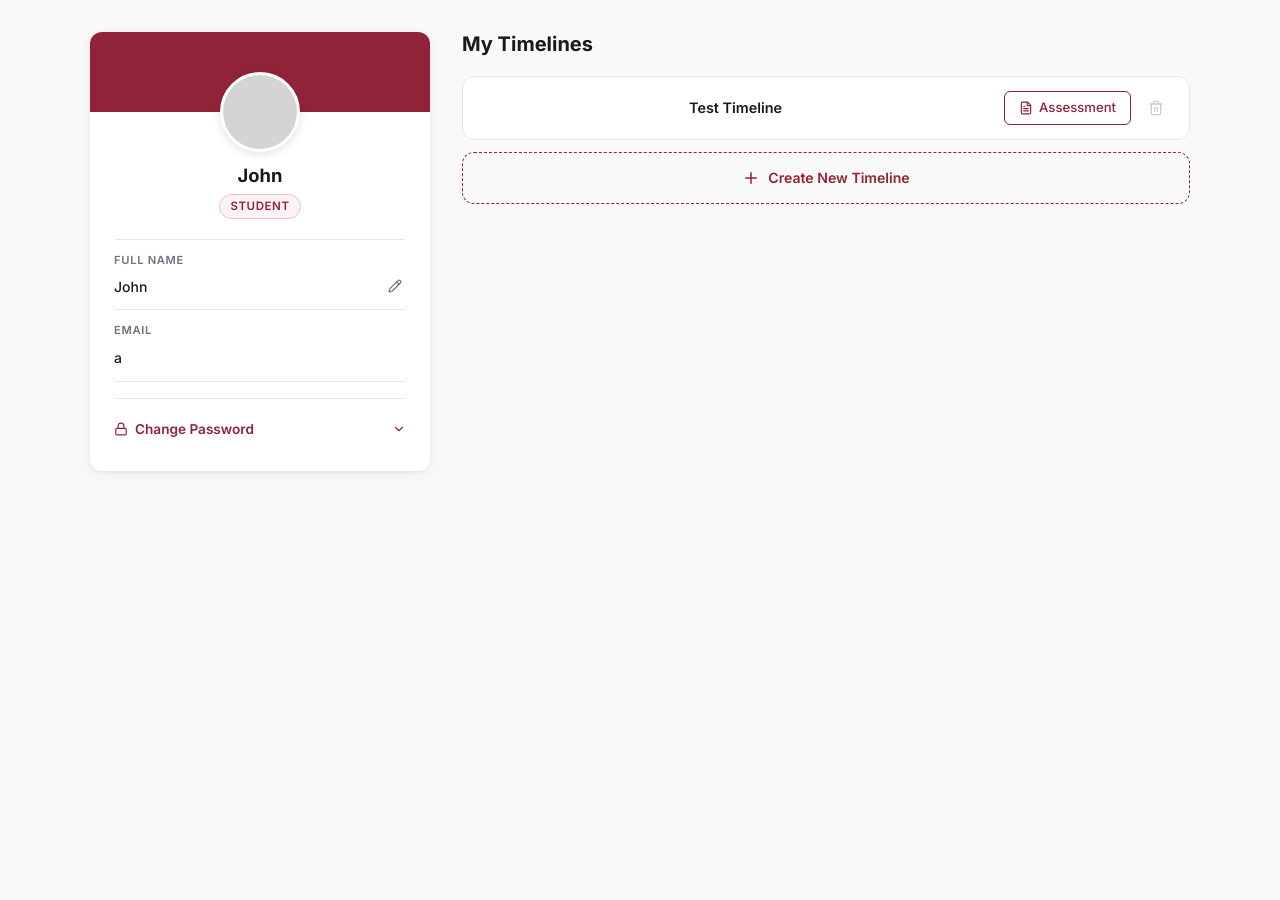
Test: StudentPage › dismisses delete modal when Keep it is clicked
Click the button titled "Delete" at (1156, 108), box [1139, 91, 1173, 125]
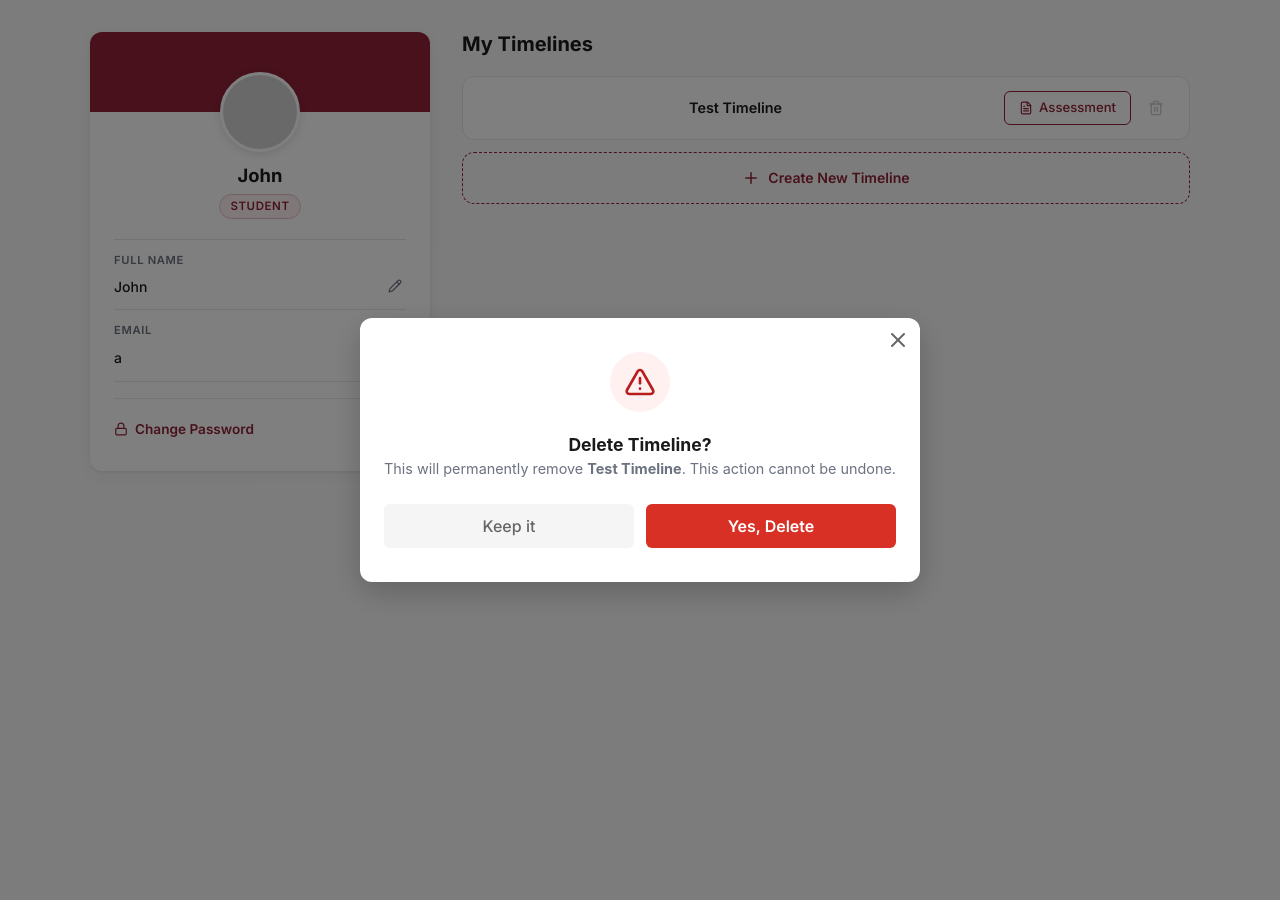
Click the button "Keep it" at (509, 526), box [384, 504, 634, 548]
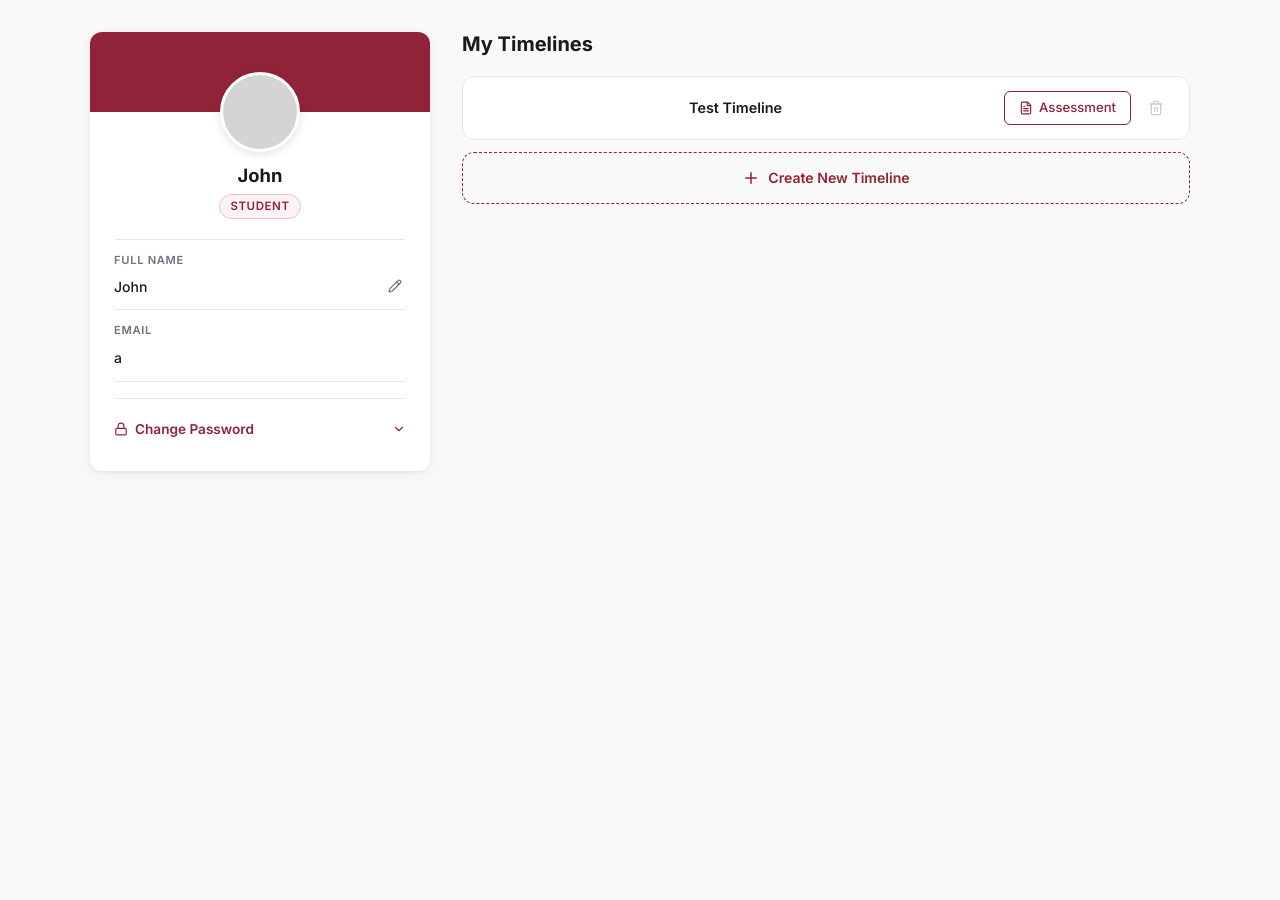
Now the button "Keep it" is gone
